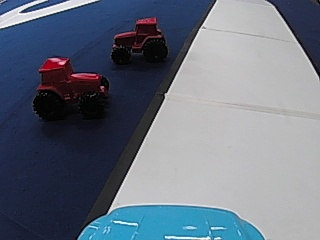Tracktor: (32, 54, 114, 116), (113, 17, 170, 63)
